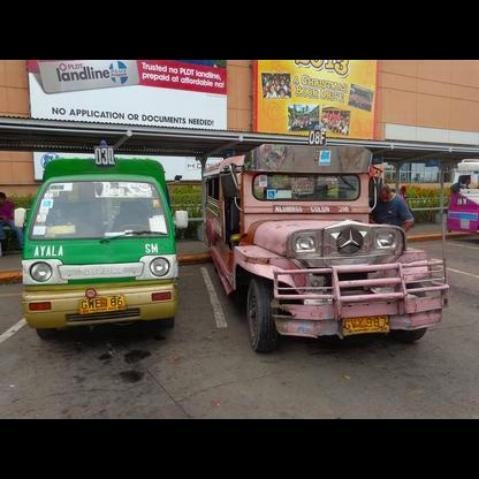jeepney: (192, 142, 451, 371), (13, 138, 185, 338)
